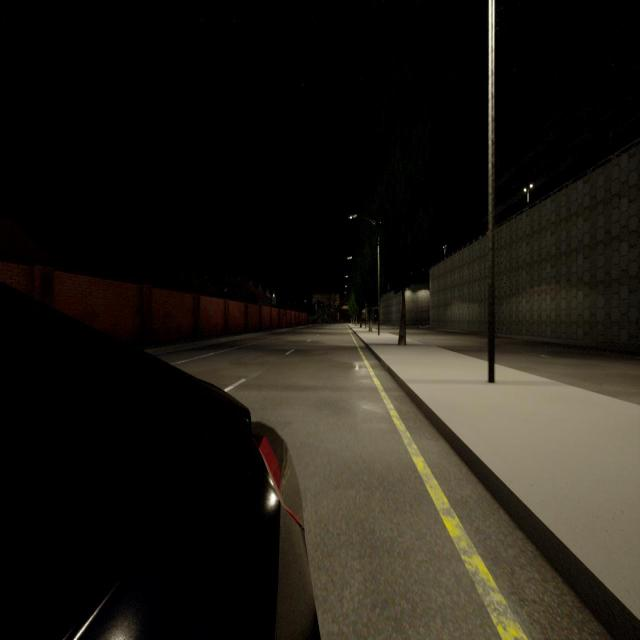Vehicle: (0, 288, 311, 638)
